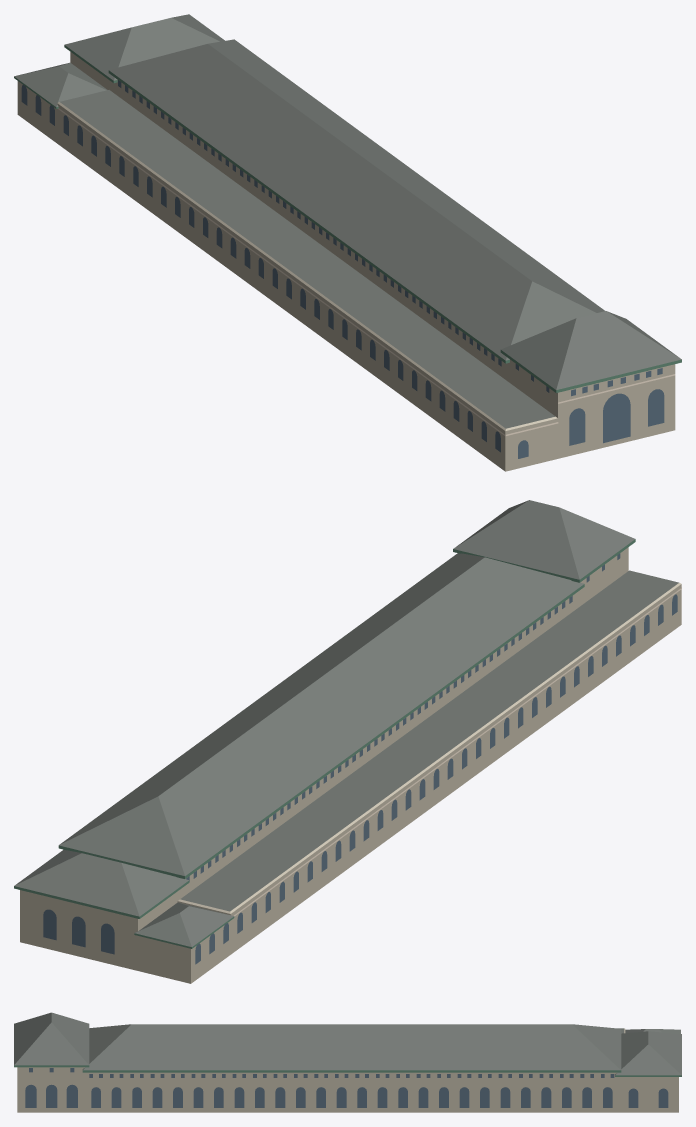
File: niagara-parks-power-station.glb
3 views of the same model, one above another, from view 1: azimuth 30°, elevation 25°; view 2: azimuth 150°, elevation 25°; view 3: azimuth 270°, elevation 25° (orthographic). The views are drawn at different scales.
Parts seen in each view (by area): view 1: Niagara Parks Power Station; view 2: Niagara Parks Power Station; view 3: Niagara Parks Power Station.
Boxes of the visible parts, x1,y1,x2,y2 form: Niagara Parks Power Station: (14, 14, 681, 471); Niagara Parks Power Station: (14, 500, 681, 983); Niagara Parks Power Station: (14, 1012, 681, 1112).
Bounding box in the file's own units: 36.9 × 22.3 × 178.
